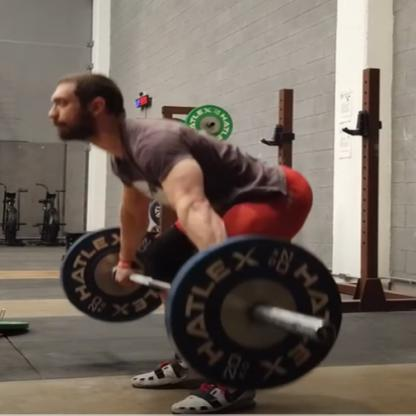Barbell: (158, 224, 354, 398)
